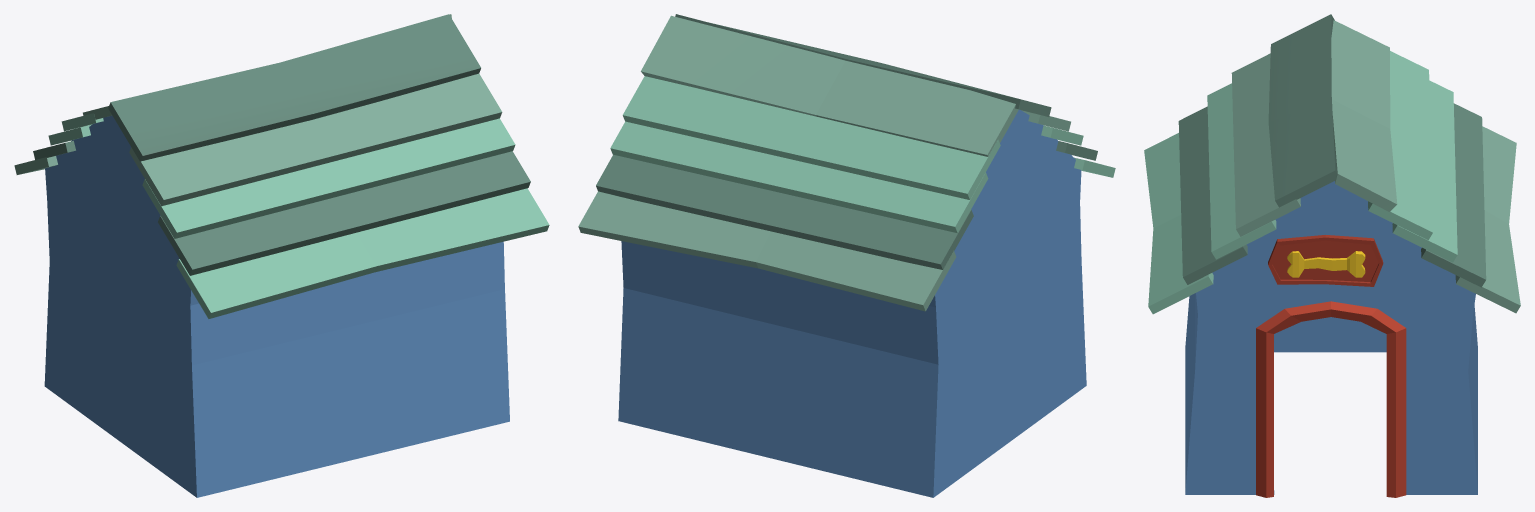
File: PetHouse.gltf
3 views of the same model, side by side, from view 1: azimuth 30°, elevation 25°; view 2: azimuth 150°, elevation 25°; view 3: azimuth 270°, elevation 25° (orthographic). The views are drawn at different scales.
Visible parts, largest first — view 1: PetHouse_glb; view 2: PetHouse_glb; view 3: PetHouse_glb.
Boxes of the visible parts, bbox=[...] form: PetHouse_glb: bbox=[14, 14, 549, 497]; PetHouse_glb: bbox=[578, 14, 1115, 497]; PetHouse_glb: bbox=[1144, 14, 1520, 497].
Size of the model in its own units: 1.93 by 1.85 by 1.9.
1 material, 1 textured.
